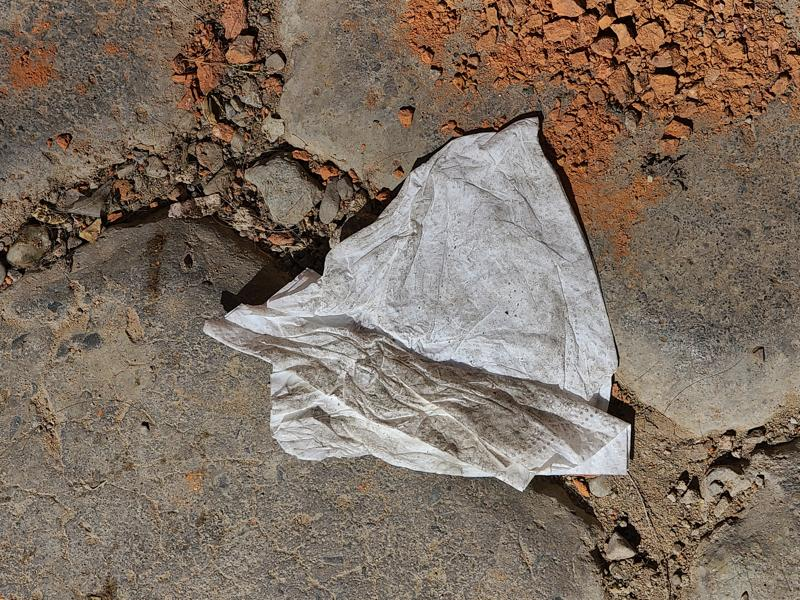papel: (229, 116, 629, 490)
